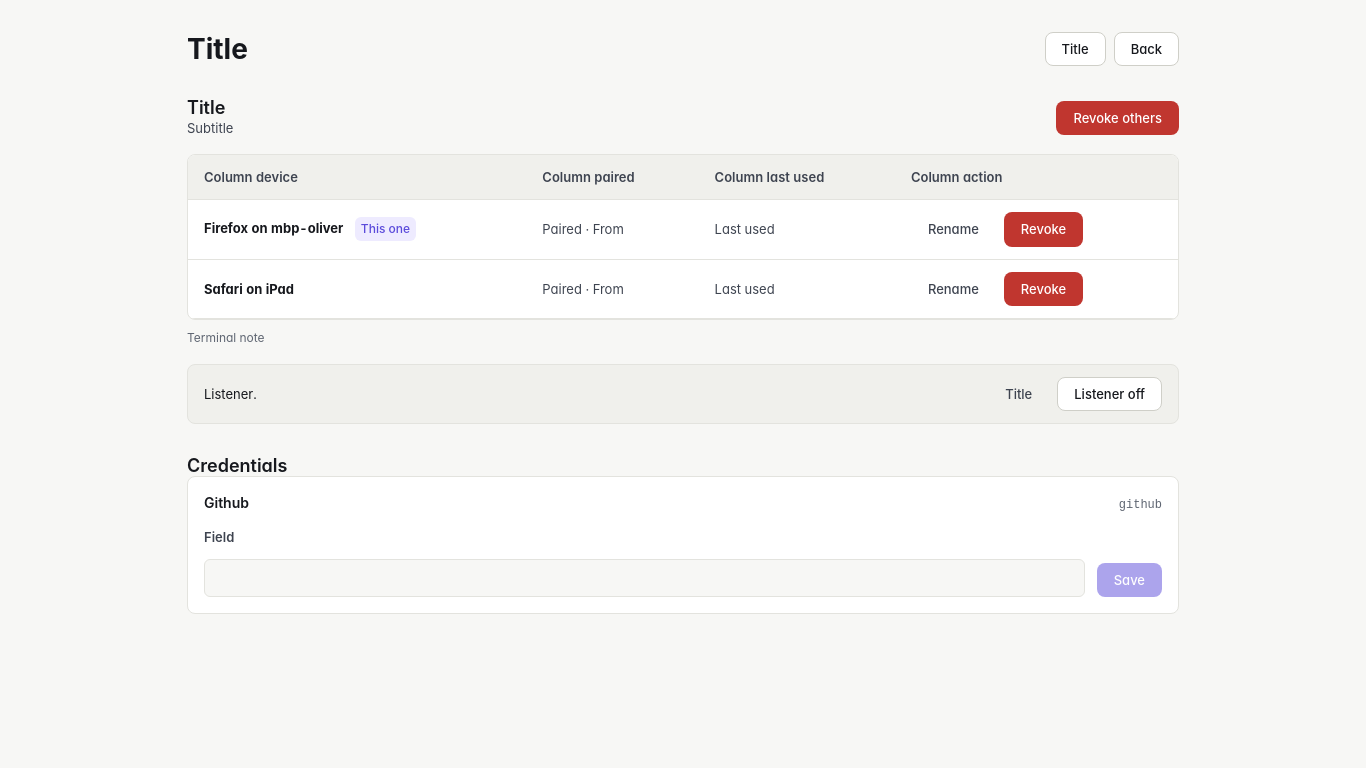
Test case: SettingsView component › opens the network access modal and shows the credential entry section
This screenshot has width=1366, height=768.
Expected: the element with test id "credential-entry" is shown, x1=187 y1=476 x2=1179 y2=614
What coordinates should you click on to do the following:
click the button with test id "lan-details-button"
I would click on:
 (1019, 394)
Its box is x1=988 y1=377 x2=1049 y2=411.
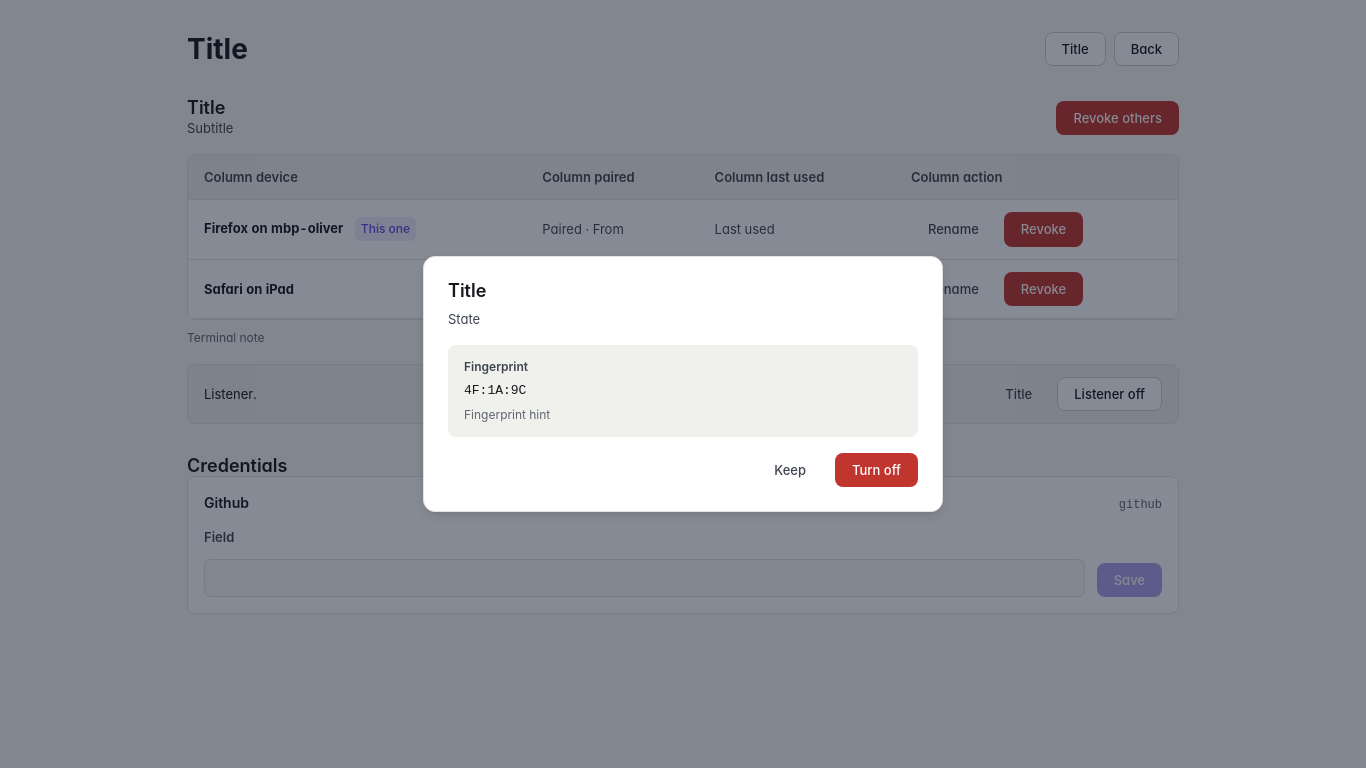
Result: the dialog with test id "lan-listener-modal" is shown
Result: the element with test id "lan-fingerprint" shows "4F:1A:9C" at x1=464 y1=383 x2=526 y2=398
